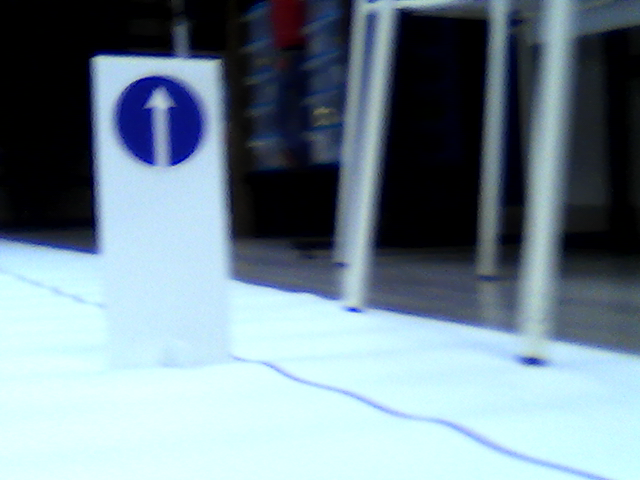forw: (116, 72, 205, 167)
